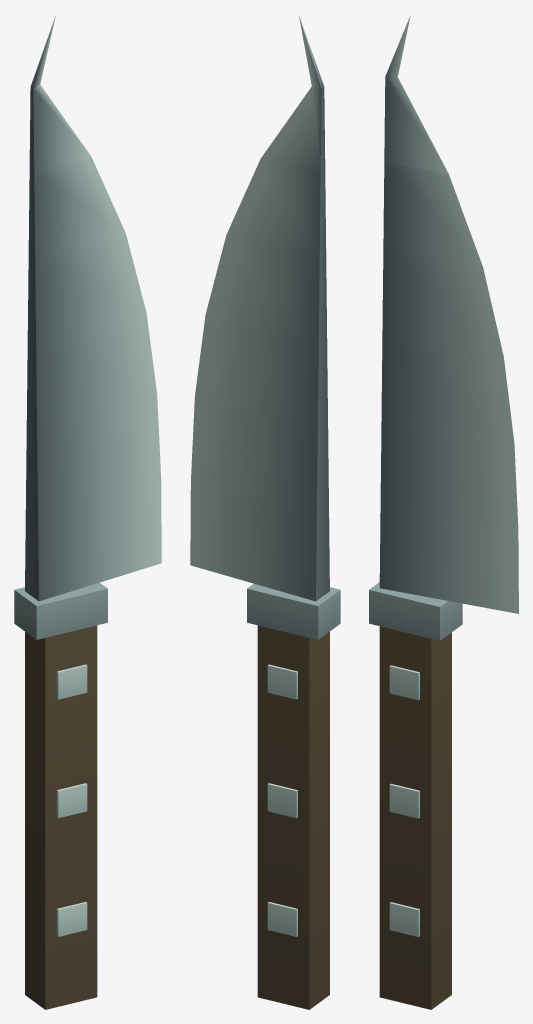
The model's file is kitchen_knife.fbx.
3 views of the same model, side by side, from view 1: azimuth 30°, elevation 25°; view 2: azimuth 150°, elevation 25°; view 3: azimuth 330°, elevation 25° (orthographic).
Parts seen in each view (by area): view 1: kitchen_knife; view 2: kitchen_knife; view 3: kitchen_knife.
Part boxes in pixels (bbox=[...]): kitchen_knife: bbox=[14, 15, 161, 1009]; kitchen_knife: bbox=[190, 14, 340, 1009]; kitchen_knife: bbox=[369, 15, 518, 1009].
Bounding box in the file's own units: 8.5 × 58 × 2.5.
